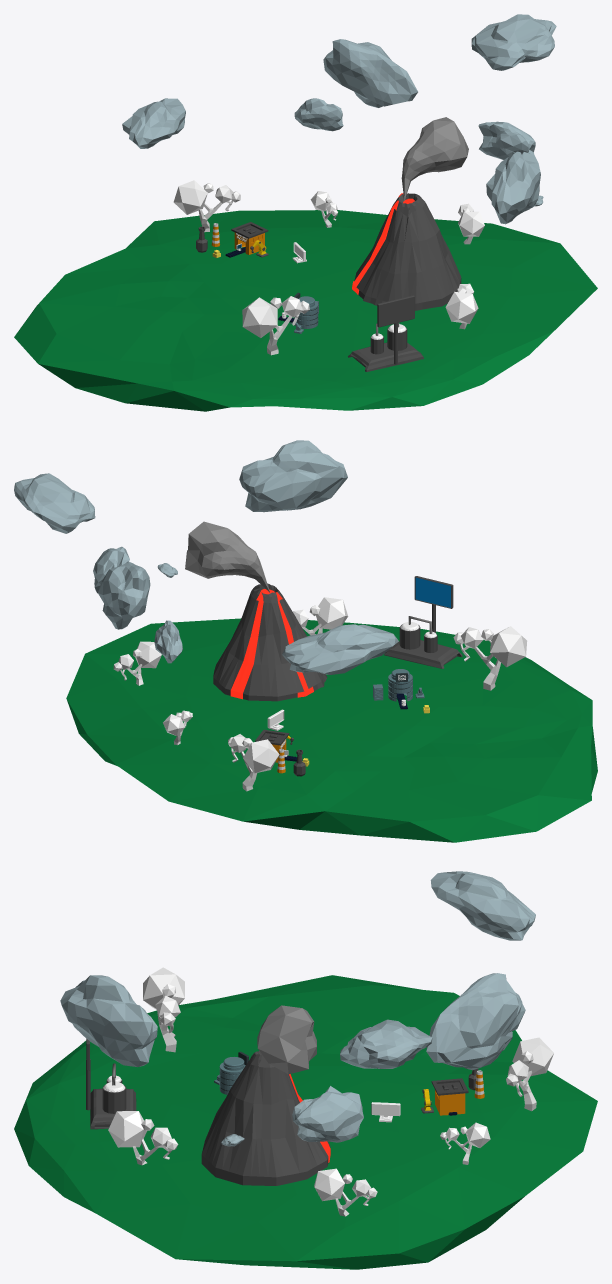
Rendered from TEST2-optimized-BrP3L-n7.glb.
3 views of the same model, one above another, from view 1: azimuth 30°, elevation 25°; view 2: azimuth 150°, elevation 25°; view 3: azimuth 270°, elevation 25° (orthographic). The views are drawn at different scales.
Parts seen in each view (by area): view 1: Island, Volcano, Cloud.002, Cloud.005, Smoke, Cloud.001, Cloud.004, Cloud, Cloud.003, Cube, Icosphere, Plane (+4 smaller); view 2: Island, Volcano, Cloud.001, Cloud.004, Smoke, Cloud.005, Cloud.002, Lava, Cube, Icosphere, Cloud.003, Icosphere.016 (+5 smaller); view 3: Island, Volcano, Cloud.002, Cloud.001, Cloud.004, Smoke, Cloud.005, Cloud, Icosphere.015, Icosphere, Icosphere.016, Cube (+4 smaller).
Boxes of the visible parts, x1,y1,x2,y2 form: Island: (14, 210, 597, 411); Volcano: (354, 193, 461, 310); Cloud.002: (323, 39, 417, 107); Cloud.005: (471, 14, 556, 70); Smoke: (401, 117, 468, 200); Cloud.001: (486, 151, 540, 224); Cloud.004: (122, 98, 185, 148); Cloud: (478, 121, 535, 159); Cloud.003: (294, 98, 343, 131); Cube: (348, 342, 423, 371); Icosphere: (242, 297, 277, 337); Plane: (377, 295, 414, 327); Island: (66, 618, 597, 842); Volcano: (213, 583, 327, 701); Cloud.001: (239, 440, 347, 512); Cloud.004: (282, 624, 398, 674); Smoke: (185, 521, 269, 592); Cloud.005: (14, 473, 95, 533); Cloud.002: (98, 561, 150, 629); Lava: (230, 589, 313, 699); Cube: (384, 640, 462, 668); Icosphere: (490, 626, 527, 667); Cloud.003: (154, 620, 182, 663); Icosphere.016: (243, 739, 279, 773); Island: (14, 975, 597, 1269); Volcano: (201, 1051, 330, 1185); Cloud.002: (426, 973, 525, 1070); Cloud.001: (60, 975, 157, 1067); Cloud.004: (430, 871, 535, 940); Smoke: (257, 1005, 316, 1074); Cloud.005: (340, 1019, 432, 1068); Cloud: (292, 1086, 363, 1142); Icosphere.015: (108, 1111, 146, 1147); Icosphere: (143, 967, 184, 1009); Icosphere.016: (512, 1037, 553, 1075); Cube: (90, 1088, 136, 1129).
Bounding box in the file's own units: 116 × 48.23 × 91.21.
